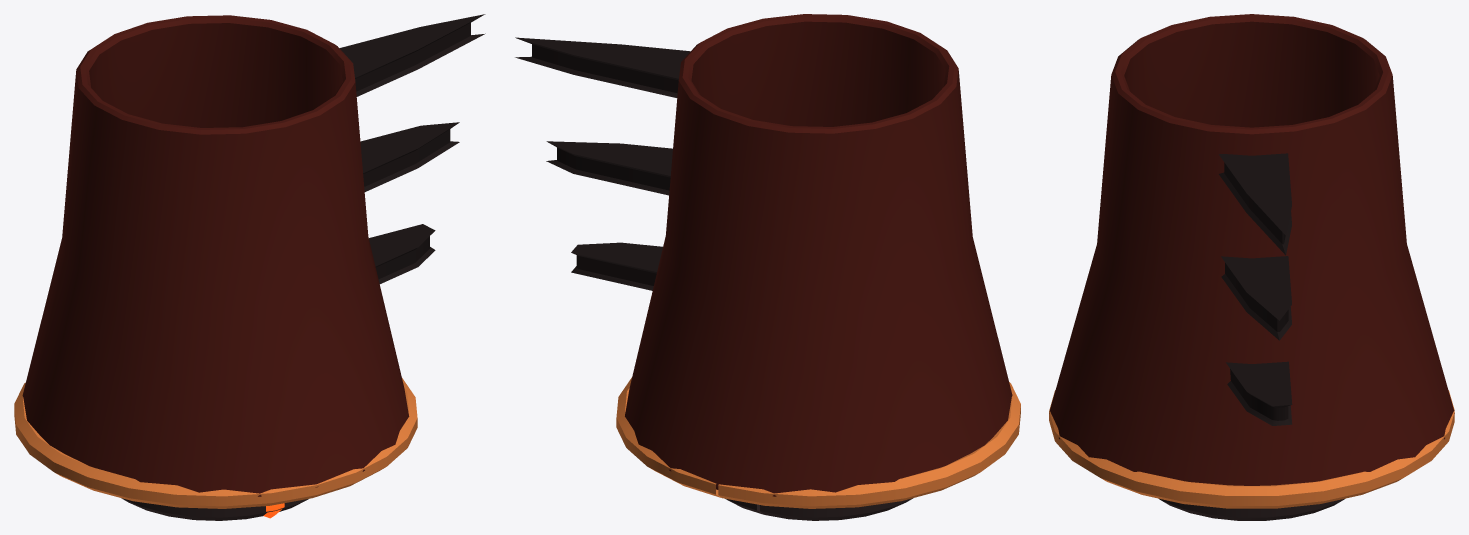
Rendered from asc_magma_oracle_gloves.glb.
The picture shows the model from 3 angles, left to right: view 1: azimuth 30°, elevation 25°; view 2: azimuth 150°, elevation 25°; view 3: azimuth 270°, elevation 25°; orthographic projection.
Parts seen in each view (by area): view 1: asc_magma_oracle_gloves; view 2: asc_magma_oracle_gloves; view 3: asc_magma_oracle_gloves.
Boxes of the visible parts, <box> form: asc_magma_oracle_gloves: <box>14,14,485,520</box>; asc_magma_oracle_gloves: <box>515,14,1020,520</box>; asc_magma_oracle_gloves: <box>1049,14,1454,520</box>.
Bounding box in the file's own units: 0.2927 × 0.2464 × 0.2227.
